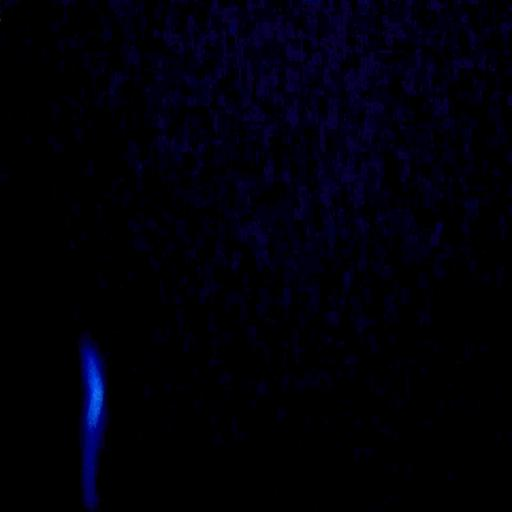object-detection-project: (81, 341, 104, 509)
